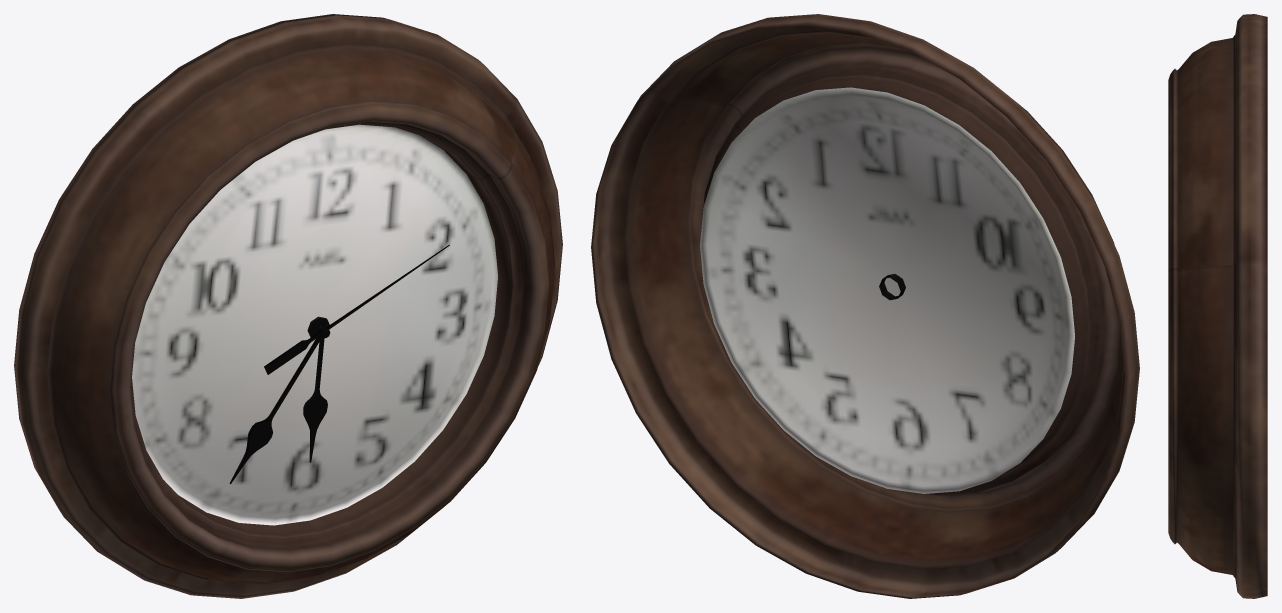
File: SM_Horloge_ACT2.fbx
3 renders of one model, left to right at view 1: azimuth 30°, elevation 25°; view 2: azimuth 150°, elevation 25°; view 3: azimuth 270°, elevation 25°, orthographic. The views are drawn at different scales.
Parts seen in each view (by area): view 1: SM_Horloge_ACT1; view 2: SM_Horloge_ACT1; view 3: SM_Horloge_ACT1.
Boxes of the visible parts, x1,y1,x2,y2 form: SM_Horloge_ACT1: (14,14,562,598); SM_Horloge_ACT1: (591,14,1139,598); SM_Horloge_ACT1: (1168,14,1267,598).
Bounding box in the file's own units: 41.6 × 41.6 × 7.07.
